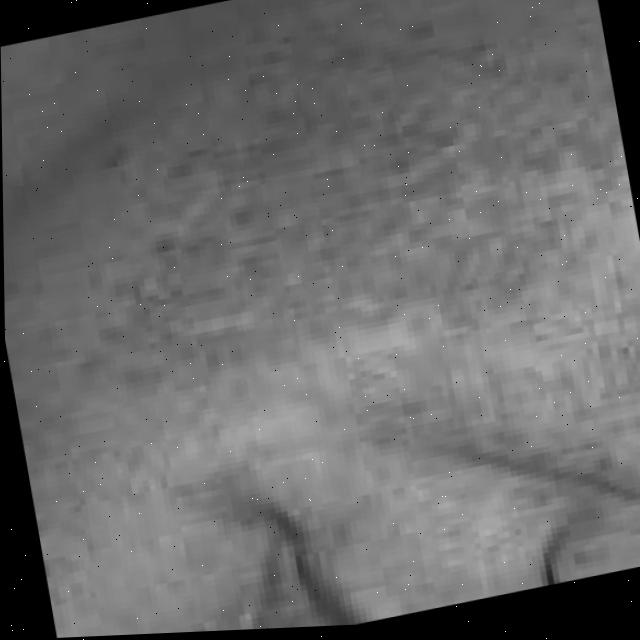Melasma: (71, 48, 597, 405)
